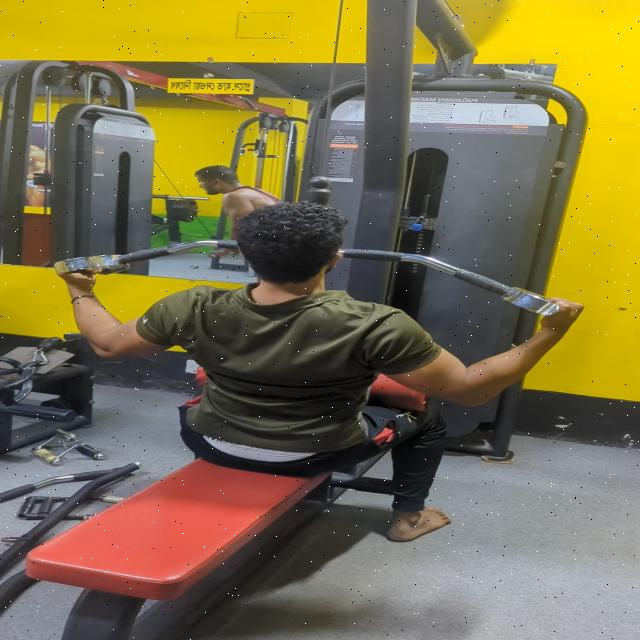Normal_LatPulldown: (0, 152, 609, 640)
